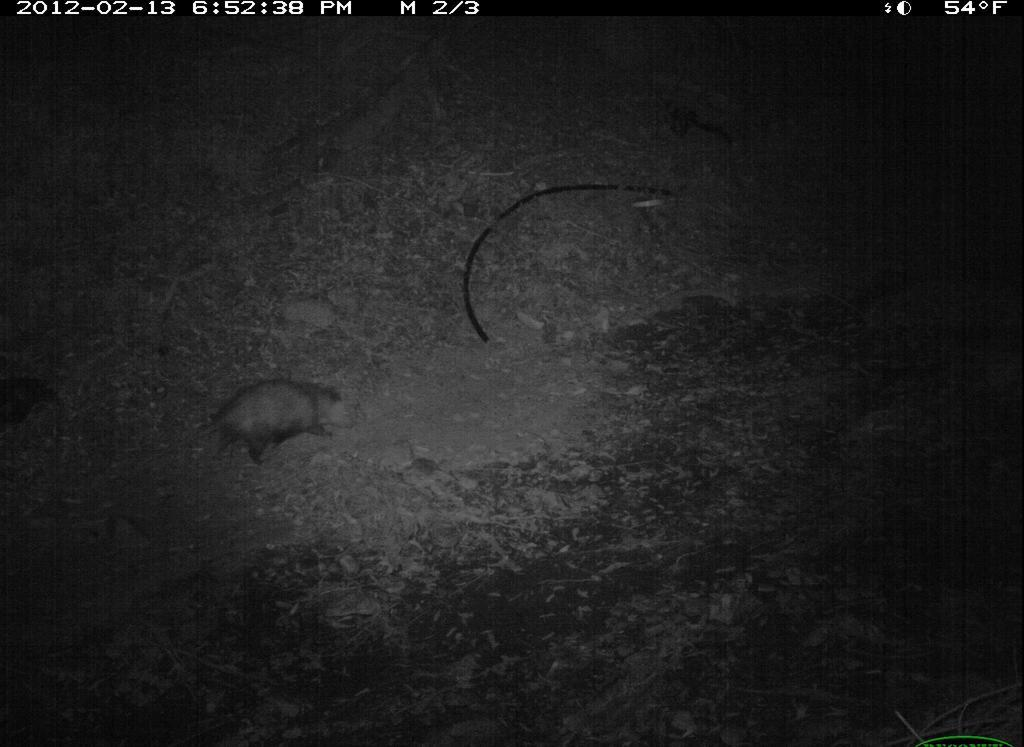opossum: (138, 373, 361, 486)
